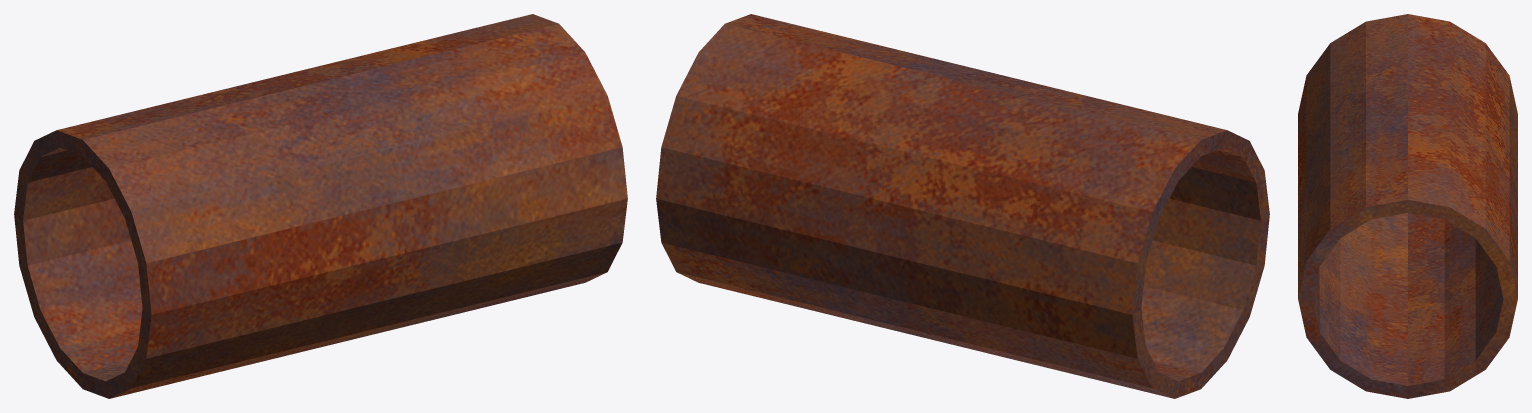
Rendered from pipeE01.fbx.
The picture shows the model from 3 angles, left to right: view 1: azimuth 30°, elevation 25°; view 2: azimuth 150°, elevation 25°; view 3: azimuth 270°, elevation 25°; orthographic projection. The views are drawn at different scales.
Visible parts, largest first — view 1: Cylinder; view 2: Cylinder; view 3: Cylinder.
Part boxes in pixels (left/top/right/bottom): Cylinder: left=14, top=14, right=627, bottom=398; Cylinder: left=656, top=14, right=1269, bottom=398; Cylinder: left=1298, top=14, right=1517, bottom=398.
Size of the model in its own units: 400 by 200 by 200.
